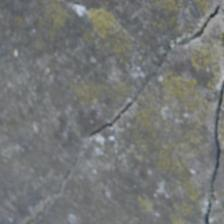Crack: (60, 0, 196, 86), (74, 57, 144, 167)
